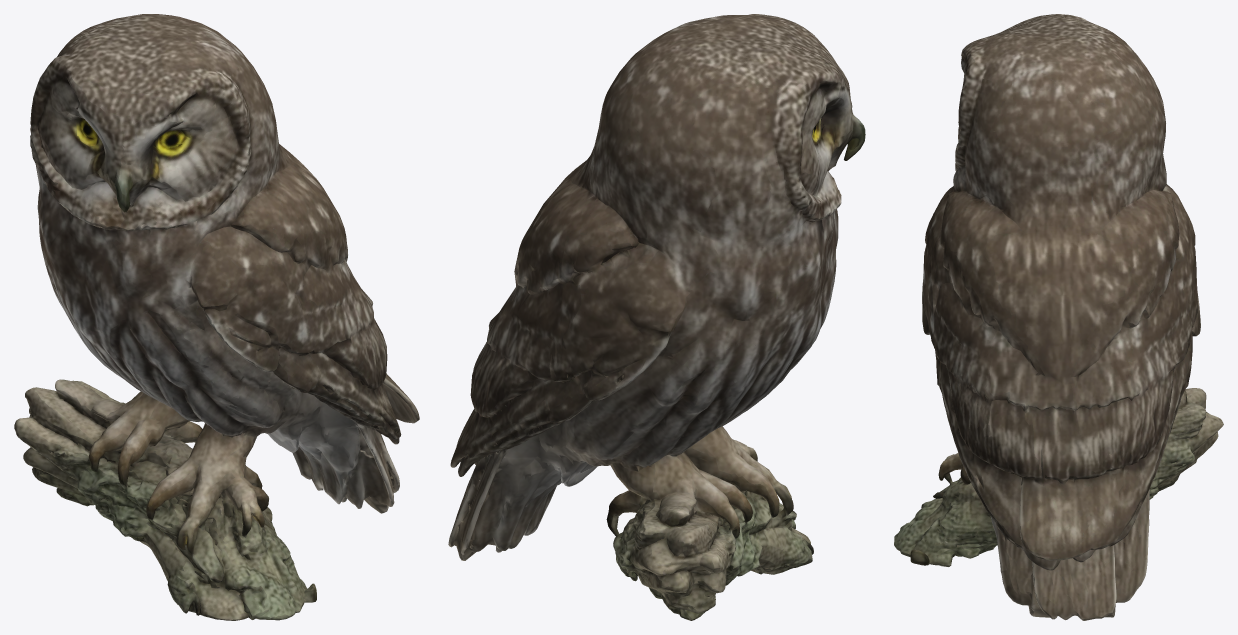
Rendered from boreal-owl-v21.glb.
3 renders of one model, left to right at view 1: azimuth 30°, elevation 25°; view 2: azimuth 150°, elevation 25°; view 3: azimuth 270°, elevation 25°, orthographic. The views are drawn at different scales.
Visible parts, largest first — view 1: geometry_0; view 2: geometry_0; view 3: geometry_0.
Part boxes in pixels (x1,y1,x2,y2): geometry_0: (14,14,419,620); geometry_0: (448,14,865,620); geometry_0: (894,14,1223,620).
Size of the model in its own units: 0.2891 by 0.42 by 0.2564.
1 material, 1 textured.
